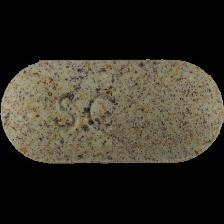44946-1045: (0, 0, 224, 224)
